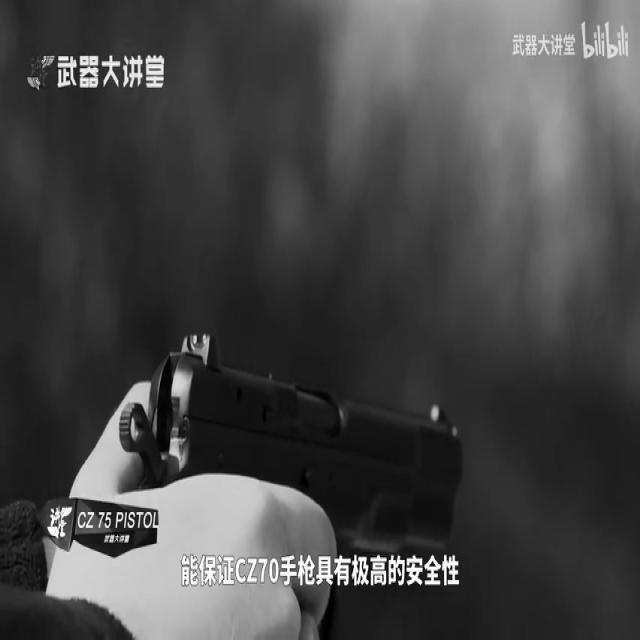Hand-Gun: (100, 282, 480, 640)
